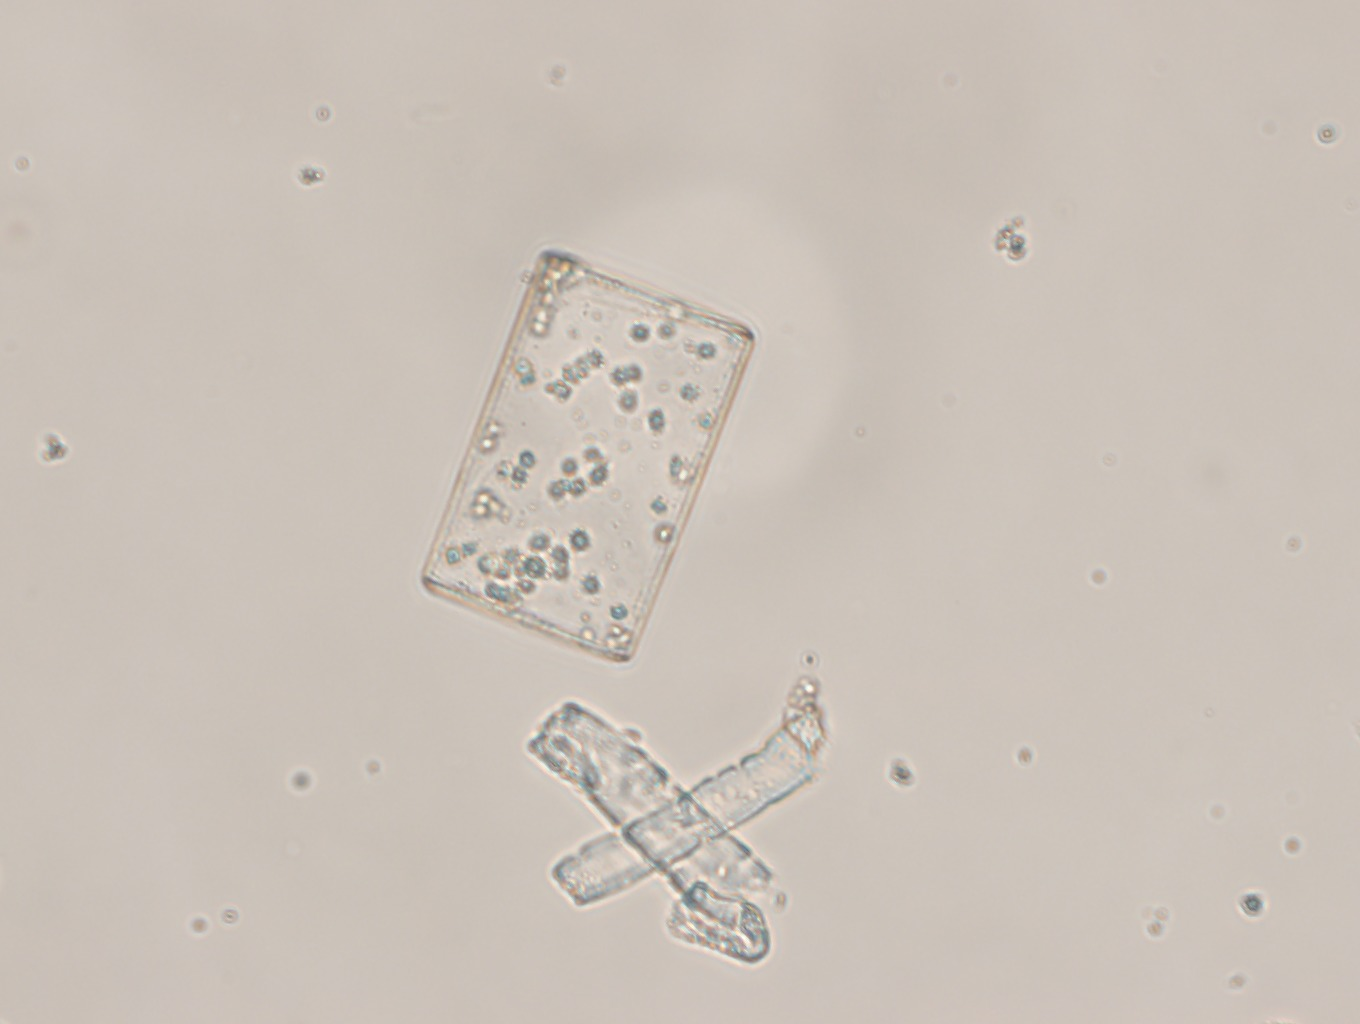guinardia flaccida: (419, 245, 757, 663)
